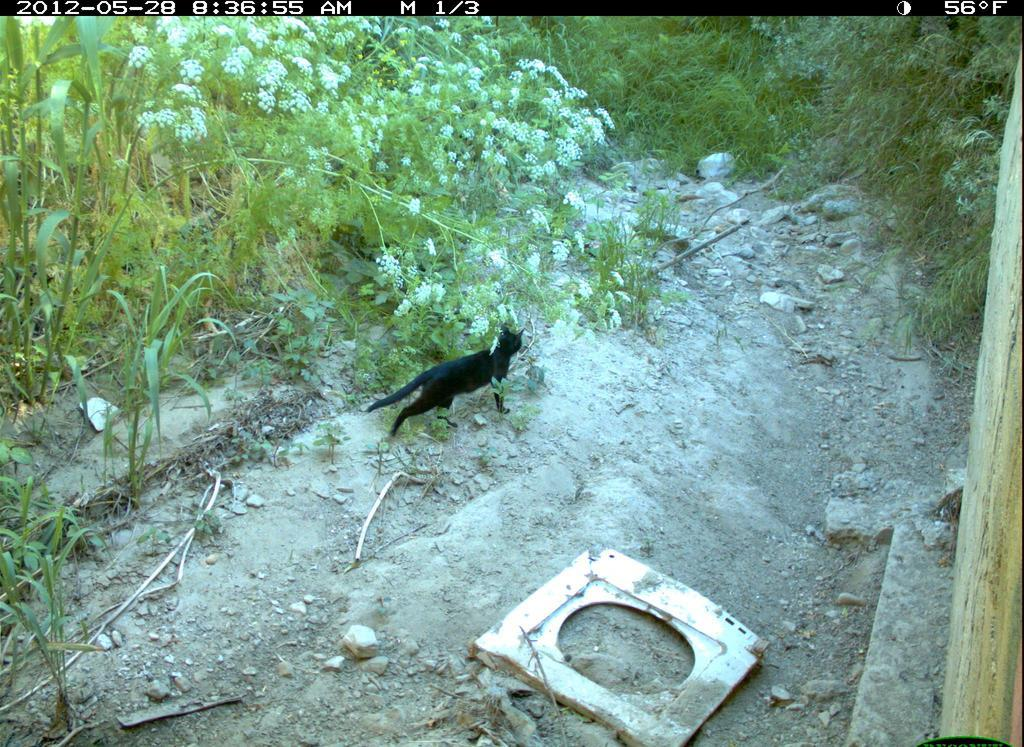cat: (359, 322, 530, 446)
